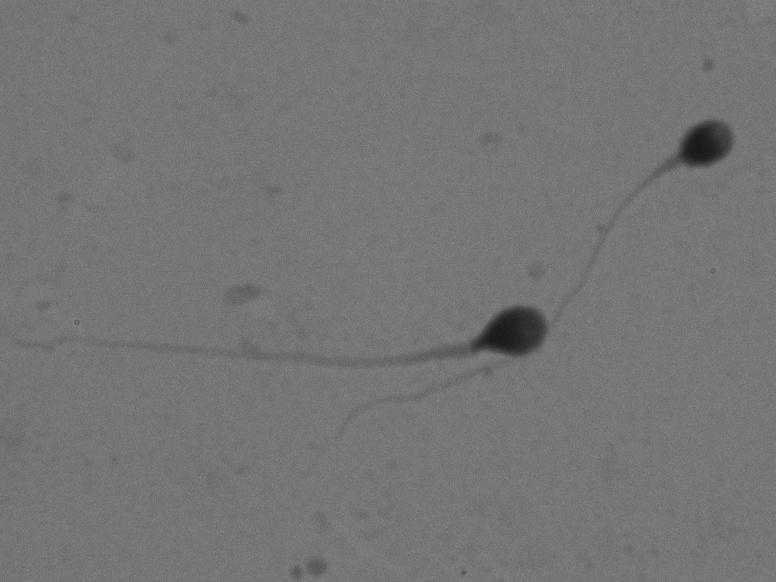Abnormal: (4, 277, 553, 396)
Normal: (265, 91, 758, 511)
